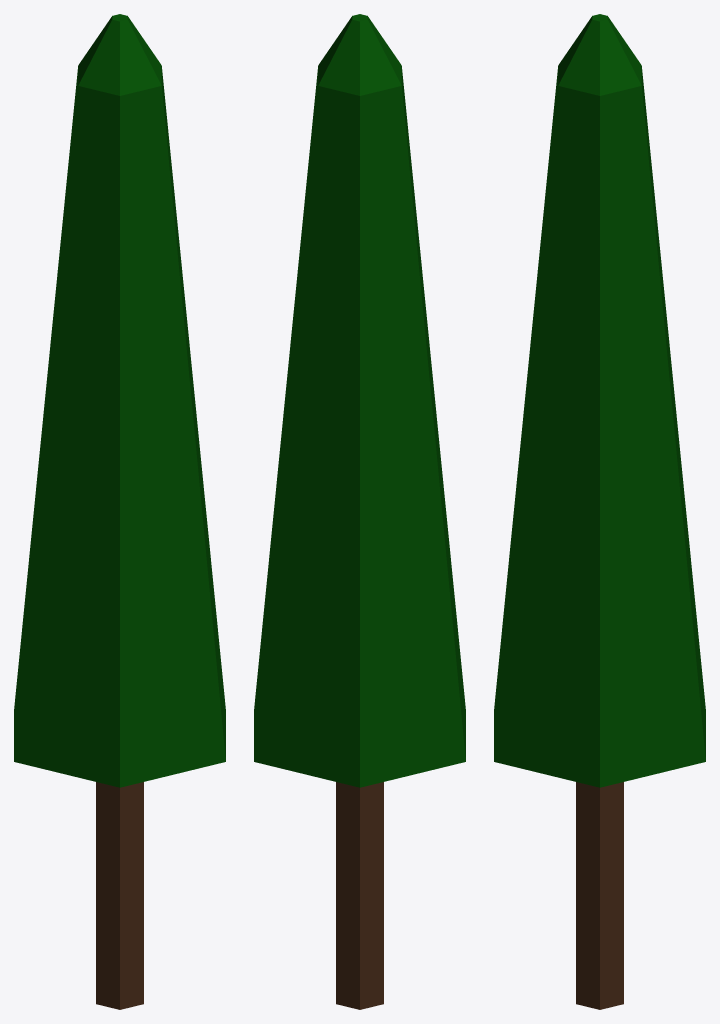
Rendered from Parasol_1_zloz.fbx.
3 renders of one model, left to right at view 1: azimuth 30°, elevation 25°; view 2: azimuth 150°, elevation 25°; view 3: azimuth 270°, elevation 25°, orthographic.
Visible parts, largest first — view 1: Cube.005; view 2: Cube.005; view 3: Cube.005.
Boxes of the visible parts, bbox=[...] form: Cube.005: bbox=[14, 14, 225, 1009]; Cube.005: bbox=[254, 14, 465, 1009]; Cube.005: bbox=[494, 14, 705, 1009].
Size of the model in its own units: 68.83 by 351 by 79.48.
